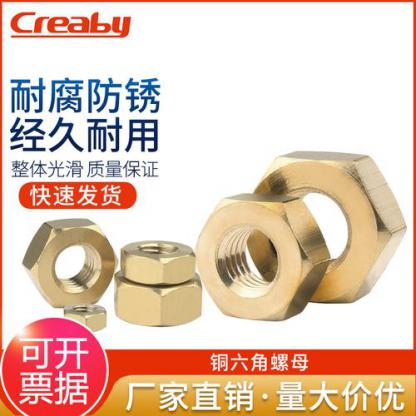FOD: (243, 148, 408, 306), (192, 190, 332, 324), (22, 217, 117, 309), (112, 269, 204, 332), (117, 237, 197, 285), (60, 306, 111, 332)
